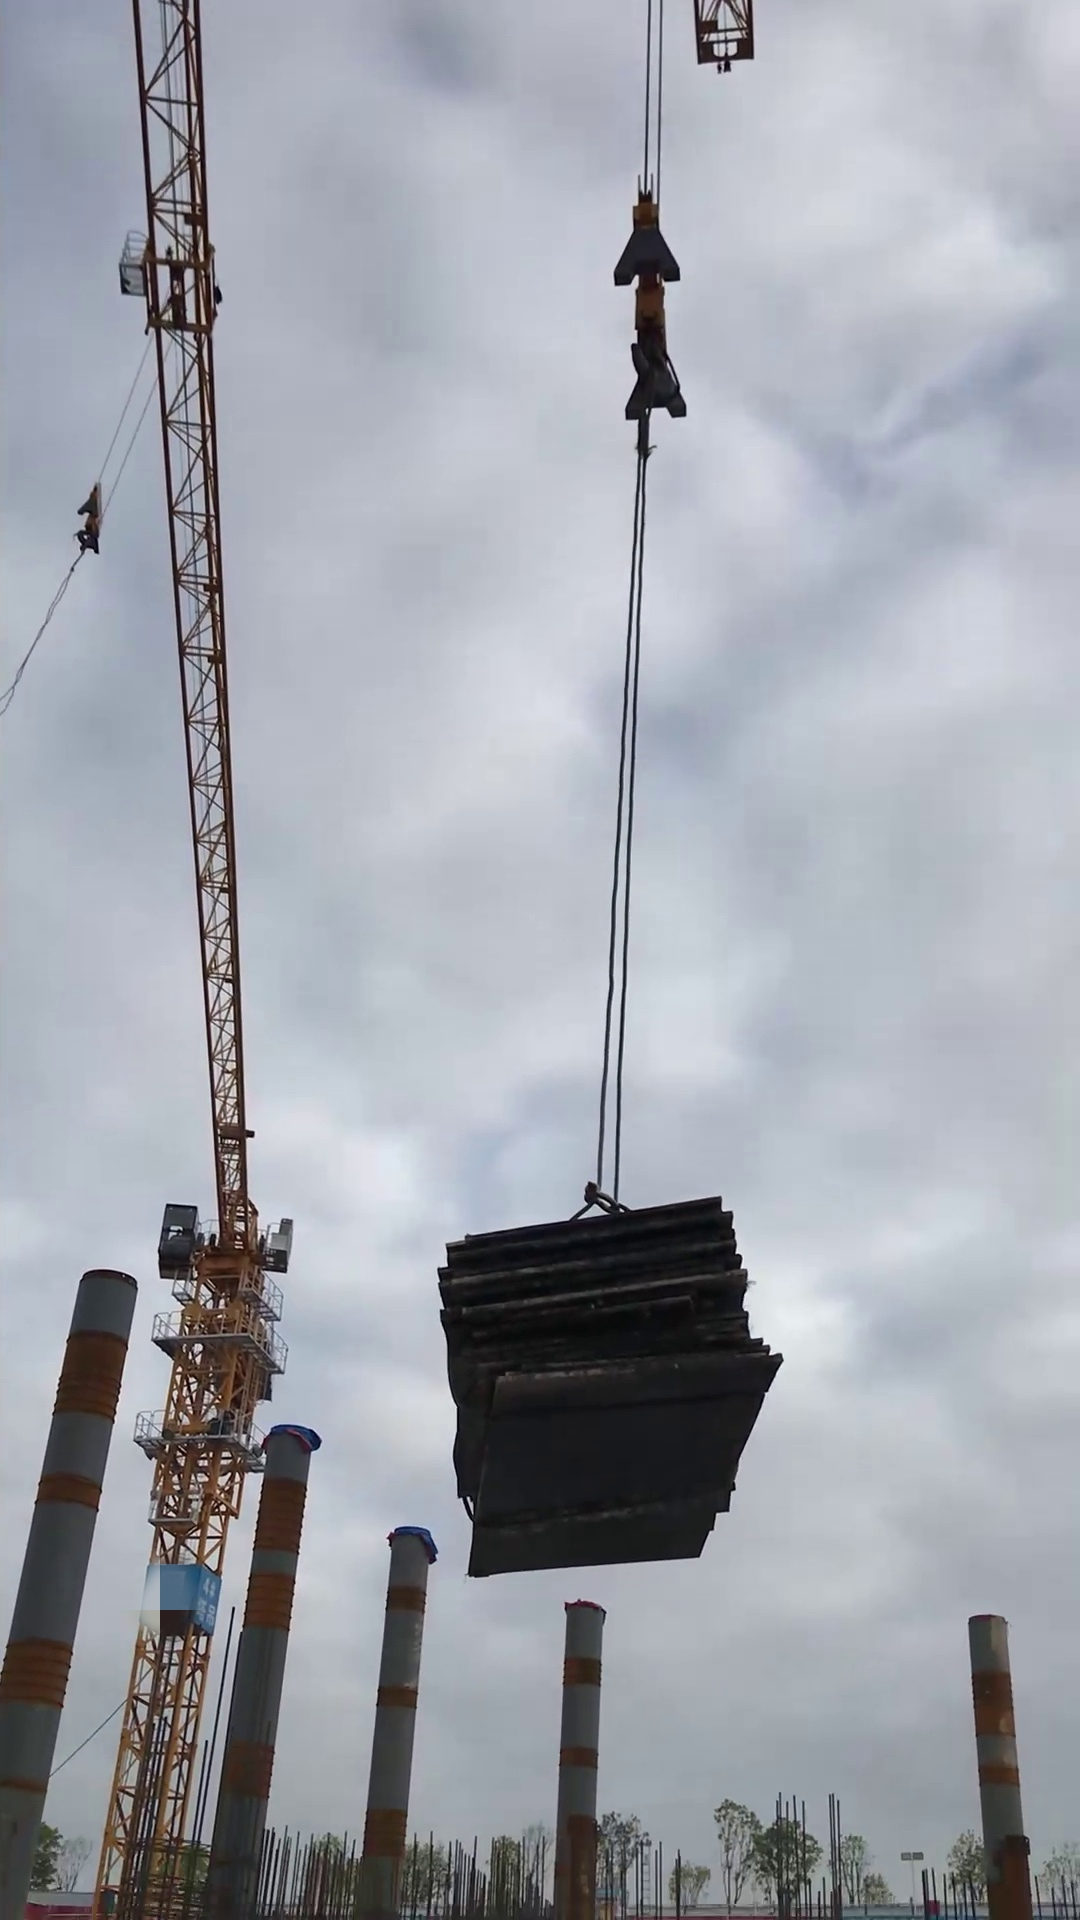board: (434, 1193, 787, 1581)
hook: (609, 170, 691, 429), (71, 477, 105, 560)
slogan: (189, 1567, 222, 1636)
